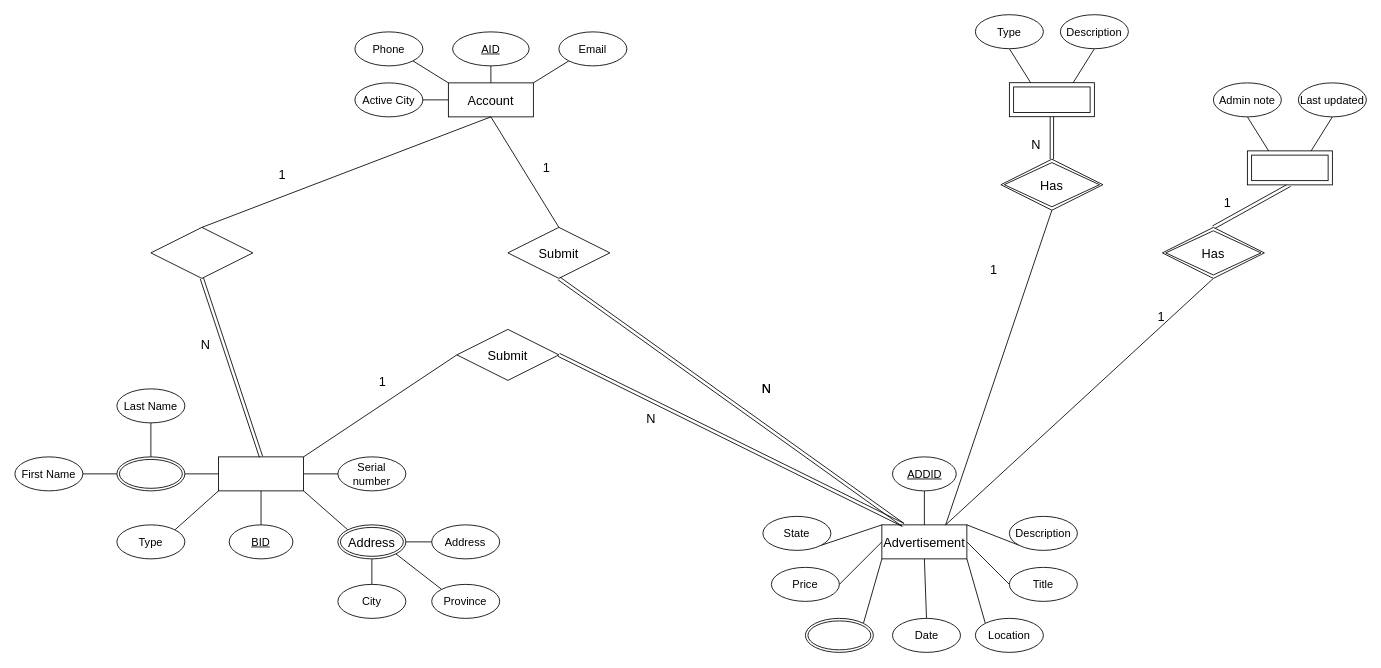
This 1381x668 diagram has some shape labels left out. The box of each missing label's shape, as (x1, y1, x2, y2) in pixels:
Add Status: (1247, 150, 1332, 185)
Business: (218, 456, 304, 491)
Comment: (1009, 82, 1094, 117)
Images: (805, 618, 873, 652)
Name: (116, 456, 185, 491)
Register: (150, 227, 253, 278)
